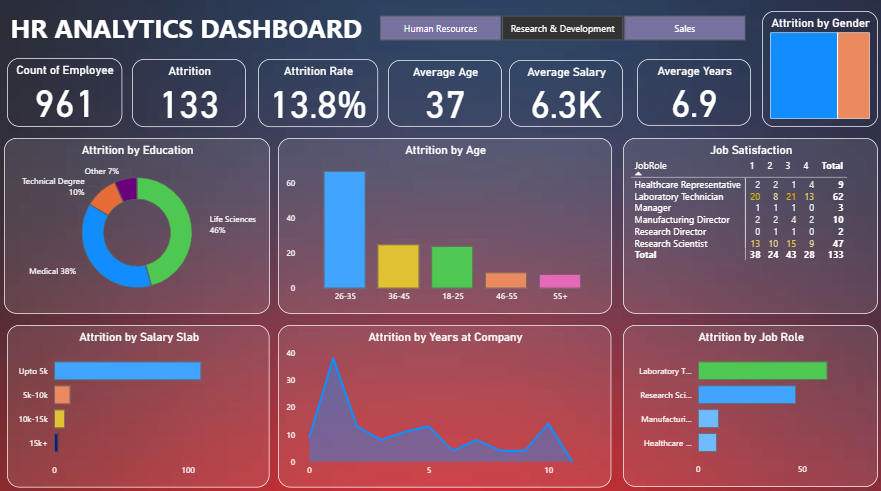

Layout of this report page (visuals, bound fields, positions):
{"tool":"powerbi","page":{"name":"Page 1","canvas":[1280,720],"ordinal":0},"visuals":[{"type":"card","title":"Count of Employee","fields":{"Values":["CountNonNull(HR_Analytics.EmpID)"]},"box":[15.8,89.3,165.6,99.4],"z":0},{"type":"card","title":"Attrition","fields":{"Values":["Sum(HR_Analytics.Attrition count)"]},"box":[195.8,90.7,164.2,97.9],"z":1000},{"type":"card","title":"Attrition Rate","fields":{"Values":["HR_Analytics.AttritionRate"]},"box":[377.3,90.7,172.8,97.9],"z":2000},{"type":"card","title":"Average Age","fields":{"Values":["Avg(HR_Analytics.Age)"]},"box":[564.5,92.2,164.2,96.5],"z":3000},{"type":"card","title":"Average Years","fields":{"Values":["Avg(HR_Analytics.YearsAtCompany)"]},"box":[923,90.7,164.2,96.5],"z":4000},{"type":"card","title":"Average Salary","fields":{"Values":["Avg(HR_Analytics.MonthlyIncome)"]},"box":[738.7,92.2,164.2,96.5],"z":5000},{"type":"donutChart","title":"Attrition by Education","fields":{"Y":["CountNonNull(HR_Analytics.Attrition)"],"Category":["HR_Analytics.EducationField"]},"box":[11.5,204.5,383,253.4],"z":6000},{"type":"columnChart","title":"Attrition by Age","fields":{"Category":["HR_Analytics.AgeGroup"],"Y":["Sum(HR_Analytics.AttritionCount)"]},"box":[406.1,204.5,481,253.4],"z":7000},{"type":"barChart","title":"Attrition by Salary Slab","fields":{"Y":["Sum(HR_Analytics.AttritionCount)"],"Category":["HR_Analytics.SalarySlab"]},"box":[15.1,473.5,378.5,234],"z":8000},{"type":"areaChart","title":"Attrition by Years at Company","fields":{"Category":["HR_Analytics.YearsAtCompany"],"Y":["Sum(HR_Analytics.AttritionCount)"]},"box":[406,473.5,480.3,234],"z":9000},{"type":"pivotTable","title":"Job Satisfaction","fields":{"Rows":["HR_Analytics.JobRole"],"Columns":["HR_Analytics.JobSatisfaction"],"Values":["Sum(HR_Analytics.AttritionCount)"]},"box":[902.9,205.1,367.5,253.2],"z":10000},{"type":"barChart","title":"Attrition by Job Role","fields":{"Y":["Sum(HR_Analytics.AttritionCount)"],"Category":["HR_Analytics.JobRole"]},"box":[902.9,473.8,367.2,233.3],"z":11000},{"type":"treemap","title":"Attrition by Gender","fields":{"Group":["HR_Analytics.Gender"],"Values":["Sum(HR_Analytics.AttritionCount)"]},"box":[1103,21.6,167,167],"z":12000},{"type":"slicer","fields":{"Values":["HR_Analytics.Department"]},"box":[527,21.6,576,49],"z":13000},{"type":"textbox","box":[15.8,15.8,522.7,60.5],"z":14000}]}

Visuals, with their boxes in screenshot pixels (x1, y1, x2, y2), scaled from the page's 1280x720 canvas onto the 881x491 screenshot:
"Count of Employee" card: l=11, t=61, r=125, b=129
"Attrition" card: l=135, t=62, r=248, b=129
"Attrition Rate" card: l=260, t=62, r=379, b=129
"Average Age" card: l=389, t=63, r=502, b=129
"Average Years" card: l=635, t=62, r=748, b=128
"Average Salary" card: l=508, t=63, r=621, b=129
"Attrition by Education" donutChart: l=8, t=139, r=272, b=312
"Attrition by Age" columnChart: l=280, t=139, r=611, b=312
"Attrition by Salary Slab" barChart: l=10, t=323, r=271, b=482
"Attrition by Years at Company" areaChart: l=279, t=323, r=610, b=482
"Job Satisfaction" pivotTable: l=621, t=140, r=874, b=313
"Attrition by Job Role" barChart: l=621, t=323, r=874, b=482
"Attrition by Gender" treemap: l=759, t=15, r=874, b=129
slicer - HR_Analytics.Department: l=363, t=15, r=759, b=48
textbox: l=11, t=11, r=371, b=52
